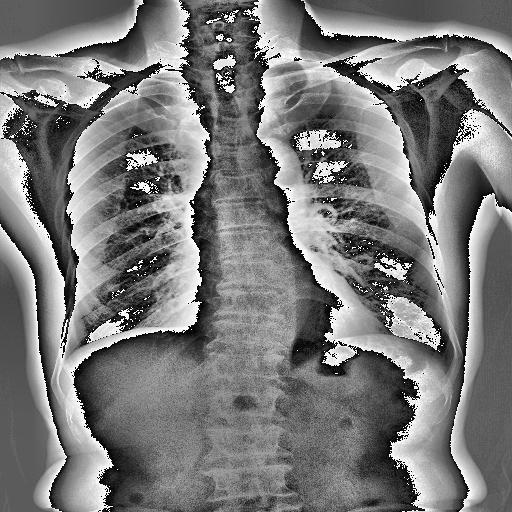0- Aortic enlargement: (236, 136, 305, 196), (239, 141, 304, 193), (238, 138, 302, 190)
8- Nodule-Mass: (105, 280, 121, 292)
